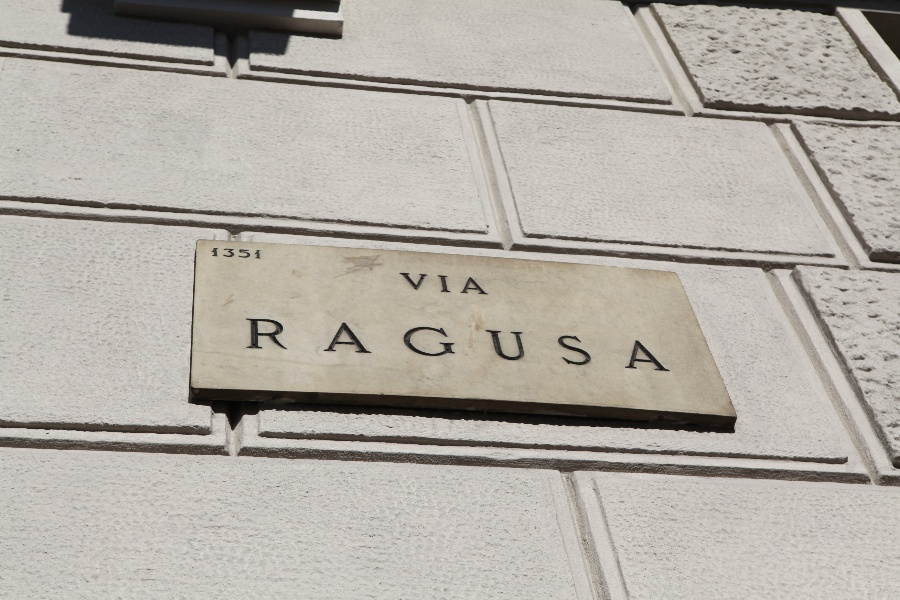text: (257, 318, 272, 372), (273, 318, 288, 372), (289, 318, 304, 372), (305, 318, 320, 372), (321, 318, 336, 372), (337, 318, 352, 372), (353, 318, 368, 372), (369, 318, 384, 372), (385, 318, 400, 372), (401, 318, 416, 372), (417, 318, 432, 372), (433, 318, 448, 372), (449, 318, 464, 372), (465, 318, 480, 372), (481, 318, 496, 372), (497, 318, 512, 372), (513, 318, 528, 372), (529, 318, 544, 372), (545, 318, 560, 372), (561, 318, 576, 372), (577, 318, 592, 372), (593, 318, 608, 372), (609, 318, 624, 372), (625, 318, 640, 372), (641, 318, 656, 372), (657, 318, 671, 372), (246, 318, 256, 372), (401, 273, 416, 295), (417, 273, 432, 295), (433, 273, 448, 295), (449, 273, 464, 295), (465, 273, 480, 295), (481, 273, 489, 295), (225, 248, 240, 259), (241, 248, 256, 259), (213, 248, 224, 259), (257, 248, 261, 259), (399, 273, 400, 295)
